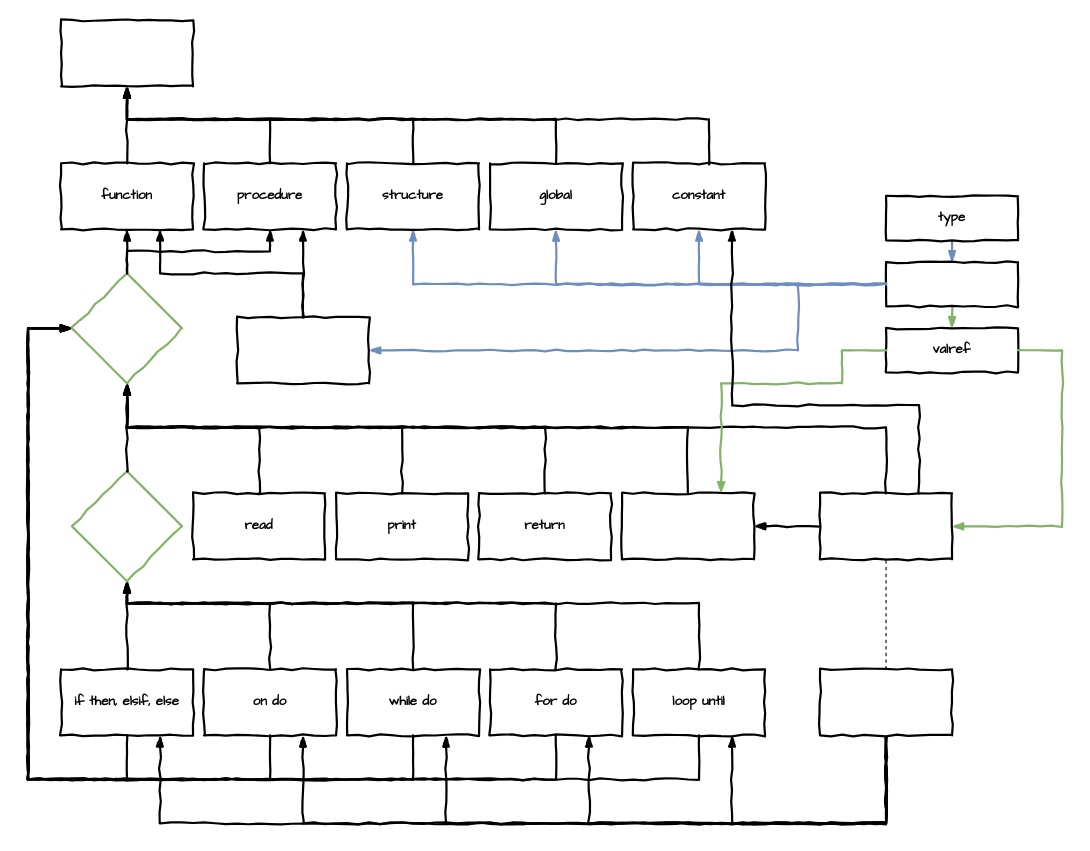
This 1090x851 diagram has some shape labels left out. The shapes that lost their labels are listed below. From the top down, each one's centre as x and y in pixels, then its label:
At (126,53): "program".
At (951,284): "symbol".
At (126,328): "instruction".
At (302,350): "local".
At (126,526): "flow control".
At (687,526): "affectation".
At (885,526): "expression".
At (885,702): "coundition".
